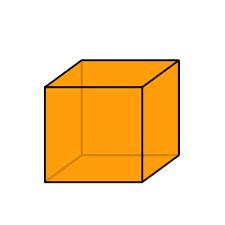cubos: (38, 53, 188, 195)
